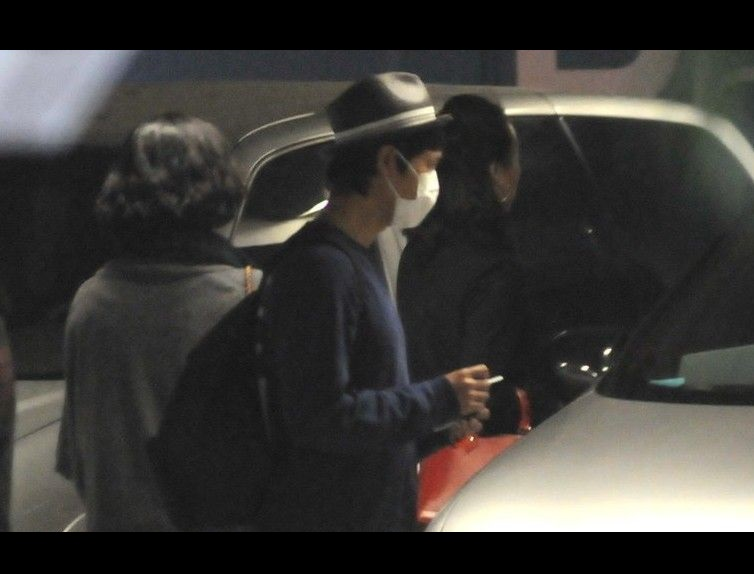face_mask: (395, 149, 440, 230)
